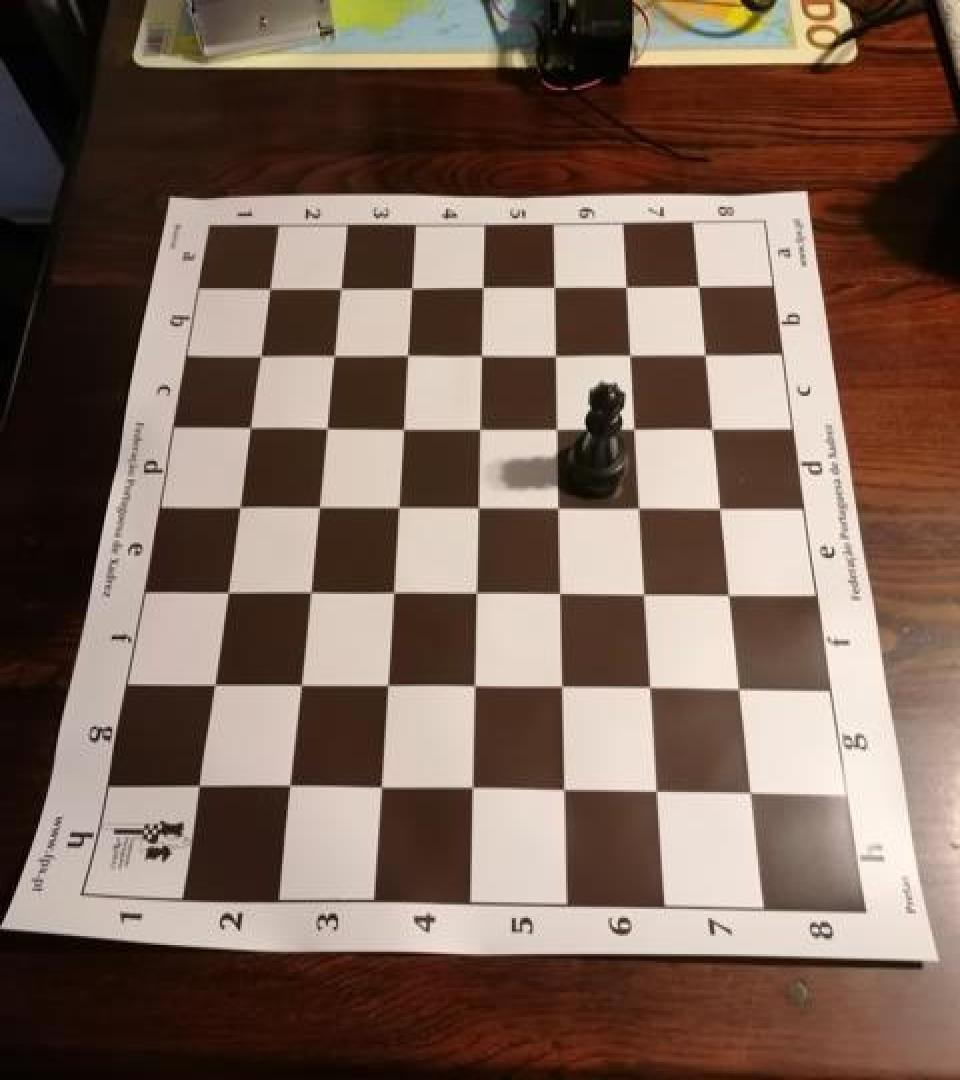xcorner: (373, 572, 405, 609), (290, 572, 322, 609), (207, 571, 239, 608), (544, 669, 576, 706), (736, 777, 768, 814), (360, 770, 392, 807), (269, 768, 301, 805), (684, 266, 716, 302), (394, 268, 426, 304), (322, 268, 354, 304), (252, 268, 284, 304), (691, 334, 723, 370), (615, 334, 647, 370), (539, 334, 571, 370), (464, 334, 496, 370), (389, 335, 421, 371), (315, 335, 347, 371), (242, 335, 274, 371), (698, 408, 730, 444), (619, 408, 651, 444), (540, 408, 572, 444), (462, 408, 494, 444), (384, 407, 416, 443), (307, 407, 339, 443), (231, 407, 263, 443), (706, 488, 738, 524), (624, 488, 656, 524), (541, 488, 573, 524), (460, 487, 492, 523), (379, 487, 411, 523), (299, 486, 331, 522), (219, 486, 251, 522), (715, 576, 747, 612), (629, 576, 661, 612), (543, 575, 575, 611), (458, 574, 490, 610), (725, 672, 757, 708), (634, 670, 666, 706), (455, 668, 487, 704), (367, 667, 399, 703), (280, 666, 312, 702), (193, 665, 225, 701), (640, 775, 672, 811), (546, 774, 578, 810), (453, 772, 485, 808), (178, 766, 210, 802), (611, 267, 643, 302), (538, 267, 570, 302), (465, 267, 497, 302)
